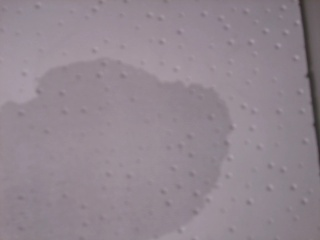Water_detected: (21, 86, 195, 227)
